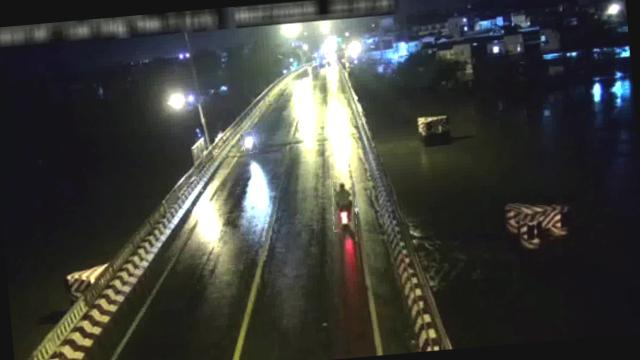Bike: (331, 180, 358, 232), (240, 130, 257, 154)
